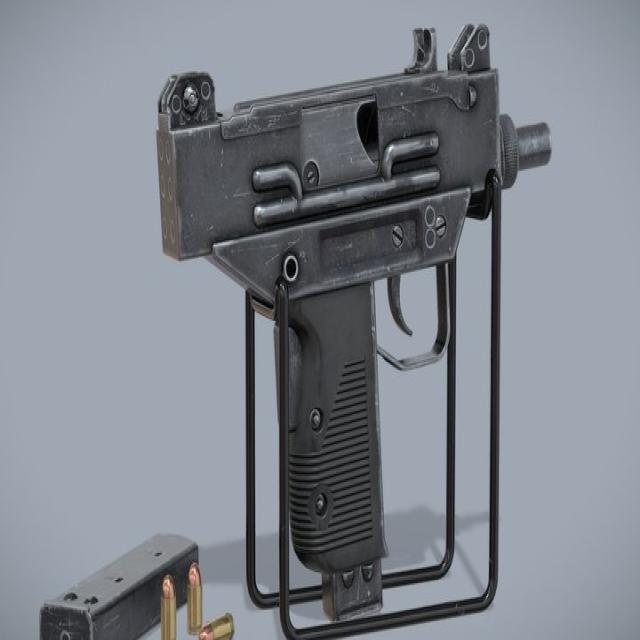SMG: (157, 25, 552, 619)
